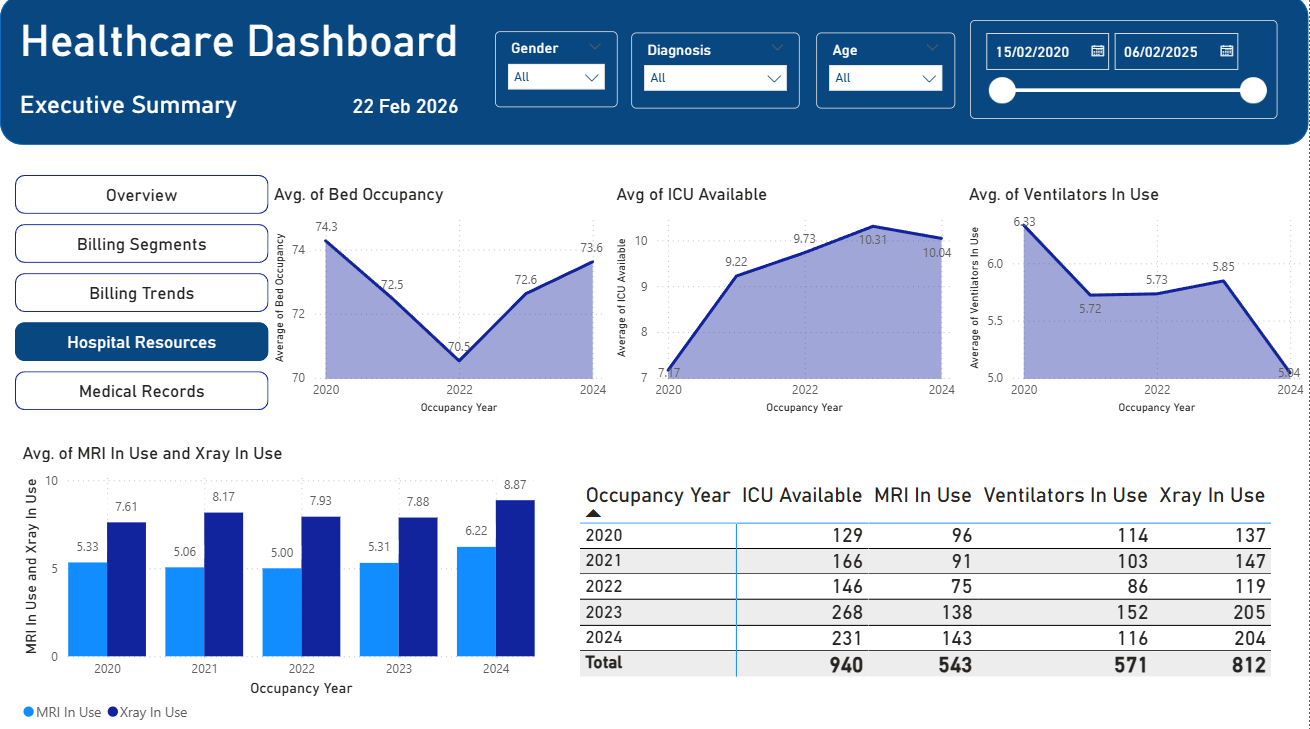

This screenshot's page, from the dashboard's own definition file:
{"tool":"powerbi","page":{"name":"Hospital Resources","canvas":[1280,720],"ordinal":3},"visuals":[{"type":"shape","box":[0,0,1280.3,146.7],"z":0,"group":"g1"},{"type":"lineChart","title":"Avg. of Bed Occupancy","fields":{"Category":["hospital_resources.Occupancy Year"],"Y":["Avg(hospital_resources.Bed_Occupancy_Rate)"]},"box":[262.9,184.6,335.1,229.9],"z":0},{"type":"textbox","box":[14.7,14.7,454.9,59.9],"z":1000,"group":"g1"},{"type":"lineClusteredColumnComboChart","title":"Avg. of MRI In Use and Xray In Use","fields":{"Y":["Avg(hospital_resources.MRI_In_Use)","Avg(hospital_resources.Xray_In_Use)"],"Category":["hospital_resources.Occupancy Year"]},"box":[17.1,437.8,511.1,282.5],"z":1000},{"type":"textbox","box":[14.7,88,223.8,40.4],"z":2000,"group":"g1"},{"type":"pivotTable","fields":{"Rows":["hospital_resources.Occupancy Year"],"Values":["Sum(hospital_resources.ICU_Available)","Sum(hospital_resources.MRI_In_Use)","Sum(hospital_resources.Ventilators_In_Use)","Sum(hospital_resources.Xray_In_Use)"]},"box":[562.5,470.8,687.2,216.4],"z":2000},{"type":"lineChart","title":"Avg of ICU Available","fields":{"Category":["hospital_resources.Occupancy Year"],"Y":["Avg(hospital_resources.ICU_Available)"]},"box":[598,184.6,341.2,229.9],"z":3000},{"type":"lineChart","title":"Avg. of Ventilators In Use","fields":{"Category":["hospital_resources.Occupancy Year"],"Y":["Avg(hospital_resources.Ventilators_In_Use)"]},"box":[942.8,184.6,337.5,229.9],"z":4000},{"type":"group","id":"g1","title":"Group 1","box":[0,0,1280.3,146.7],"z":5000},{"type":"pageNavigator","box":[14.7,176.1,248.2,232.3],"z":6000},{"type":"card","fields":{"Values":["patients.Today Label"]},"box":[335.1,88,123.5,41.6],"z":10000,"group":"g1"},{"type":"slicer","fields":{"Values":["patients.Diagnosis"]},"box":[617.5,36.7,165.1,74.6],"z":11000,"group":"g1"},{"type":"slicer","fields":{"Values":["billing.Billing_Date"]},"box":[948.9,24.5,300.8,96.6],"z":12000,"group":"g1"},{"type":"slicer","fields":{"Values":["patients.Gender"]},"box":[484.2,35.5,119.8,74.6],"z":26000,"group":"g1"},{"type":"slicer","fields":{"Values":["patients.Age Category"]},"box":[798.5,36.7,135.7,74.6],"z":27000,"group":"g1"}]}

Visuals, with their boxes in screenshot pixels (x1, y1, x2, y2), scaled from the page's 1280x720 canvas onto the 1310x729 screenshot:
shape: crop(0, 0, 1309, 149)
"Avg. of Bed Occupancy" lineChart: crop(269, 187, 612, 420)
textbox: crop(15, 15, 481, 76)
"Avg. of MRI In Use and Xray In Use" lineClusteredColumnComboChart: crop(18, 443, 541, 728)
textbox: crop(15, 89, 244, 130)
pivotTable - hospital_resources.Occupancy Year x Sum(hospital_resources.ICU_Available): crop(576, 477, 1279, 696)
"Avg of ICU Available" lineChart: crop(612, 187, 961, 420)
"Avg. of Ventilators In Use" lineChart: crop(965, 187, 1309, 420)
"Group 1" group: crop(0, 0, 1309, 149)
pageNavigator: crop(15, 178, 269, 414)
card - patients.Today Label: crop(343, 89, 469, 131)
slicer - patients.Diagnosis: crop(632, 37, 801, 113)
slicer - billing.Billing_Date: crop(971, 25, 1279, 123)
slicer - patients.Gender: crop(496, 36, 618, 111)
slicer - patients.Age Category: crop(817, 37, 956, 113)
